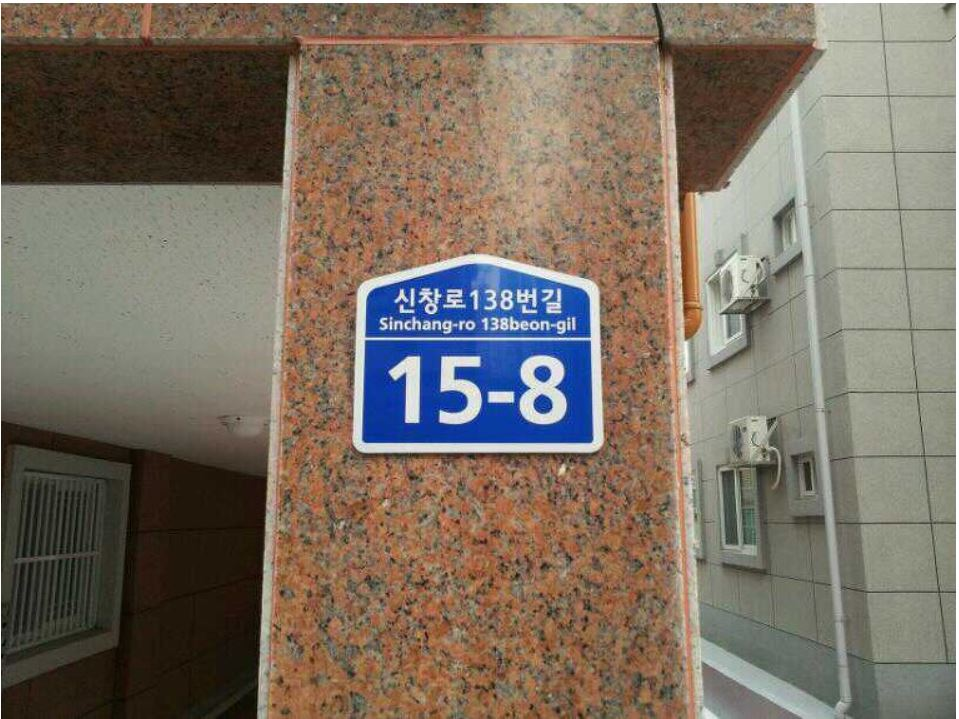building_license_plate1: (352, 254, 604, 454)
